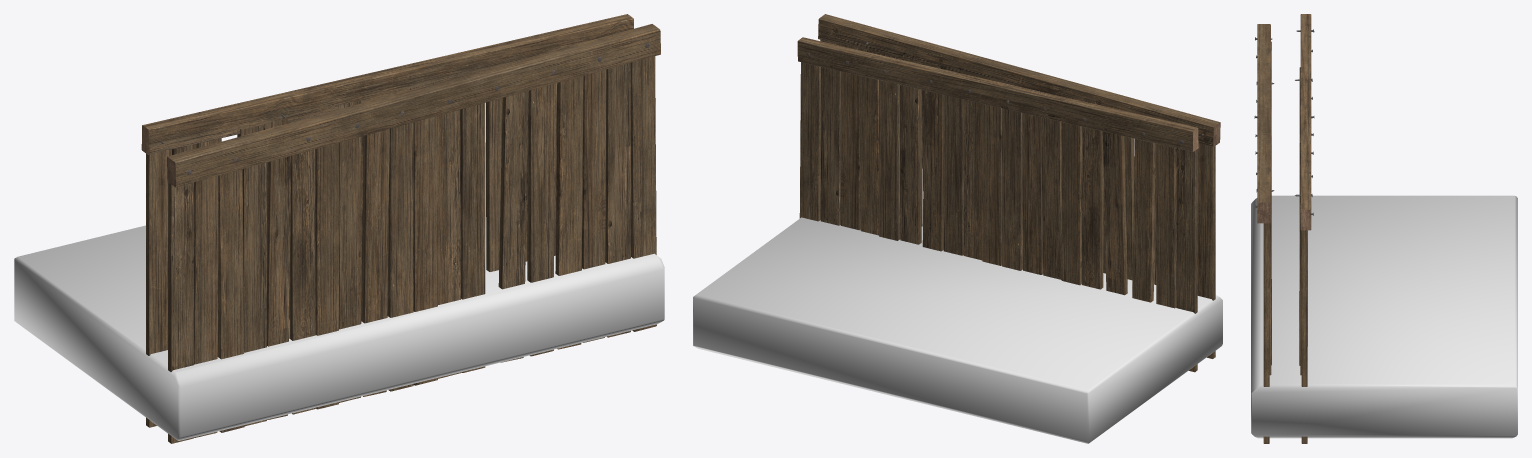
File: SM_Wall_LowPart_E.fbx
The picture shows the model from 3 angles, left to right: view 1: azimuth 30°, elevation 25°; view 2: azimuth 150°, elevation 25°; view 3: azimuth 270°, elevation 25°; orthographic projection. The views are drawn at different scales.
Parts seen in each view (by area): view 1: SM_Wall_LowPart_E, SM_Wall_LowPart_E_ConvexHulls; view 2: SM_Wall_LowPart_E, SM_Wall_LowPart_E_ConvexHulls; view 3: SM_Wall_LowPart_E_ConvexHulls, SM_Wall_LowPart_E.
Boxes of the visible parts, <box> form: SM_Wall_LowPart_E: <box>141,14,660,443</box>; SM_Wall_LowPart_E_ConvexHulls: <box>14,142,664,440</box>; SM_Wall_LowPart_E: <box>797,14,1220,372</box>; SM_Wall_LowPart_E_ConvexHulls: <box>693,217,1222,443</box>; SM_Wall_LowPart_E_ConvexHulls: <box>1251,195,1517,438</box>; SM_Wall_LowPart_E: <box>1254,14,1314,443</box>.
Bounding box in the file's own units: 3.01 × 1.78 × 1.78.
